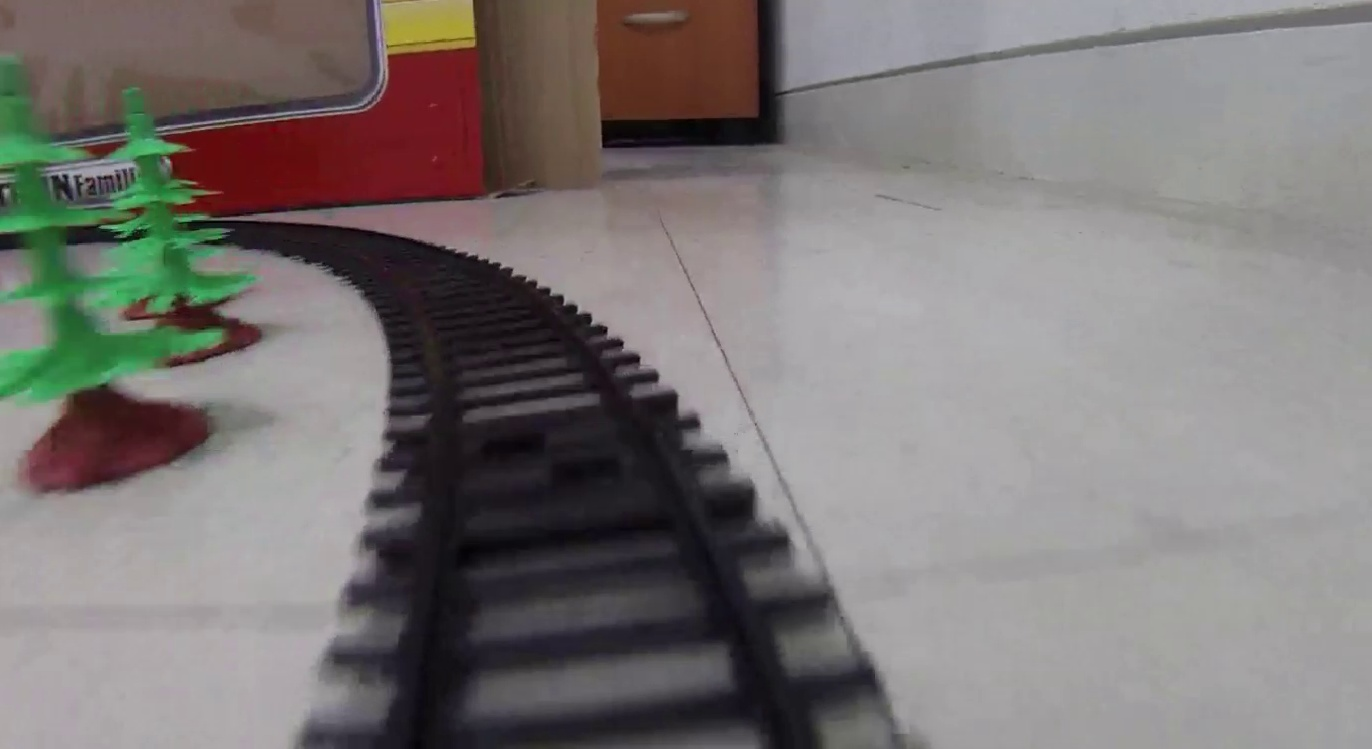tree: (3, 61, 210, 492)
